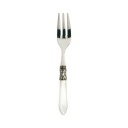fork: (42, 4, 87, 120)
